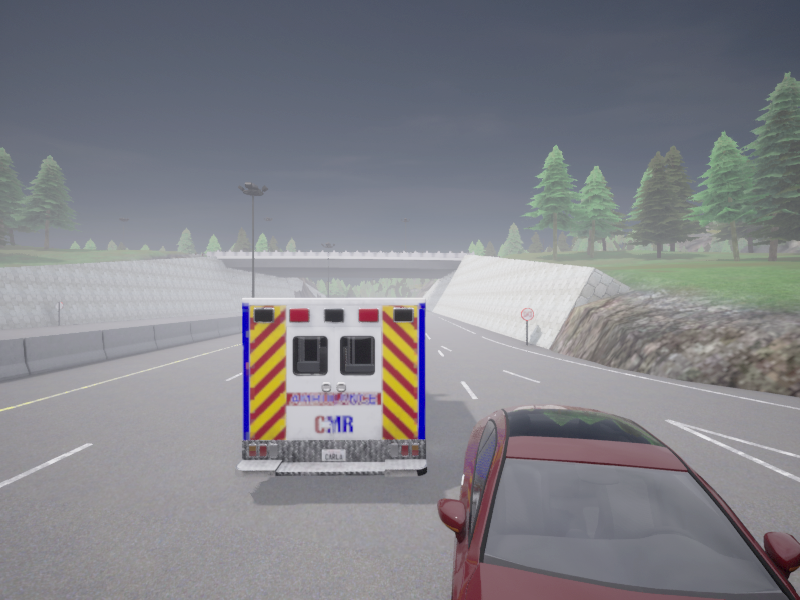vehicle: (437, 404, 799, 599), (235, 298, 426, 476)
